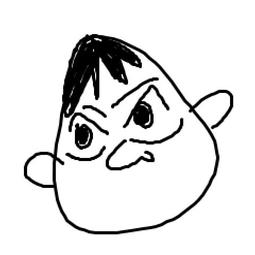ear: (193, 89, 236, 131), (18, 149, 57, 191)
eye: (118, 85, 188, 146), (65, 112, 108, 164)
frowning_eyebrow: (108, 73, 158, 109), (81, 99, 110, 118)
nose: (104, 138, 159, 173)
